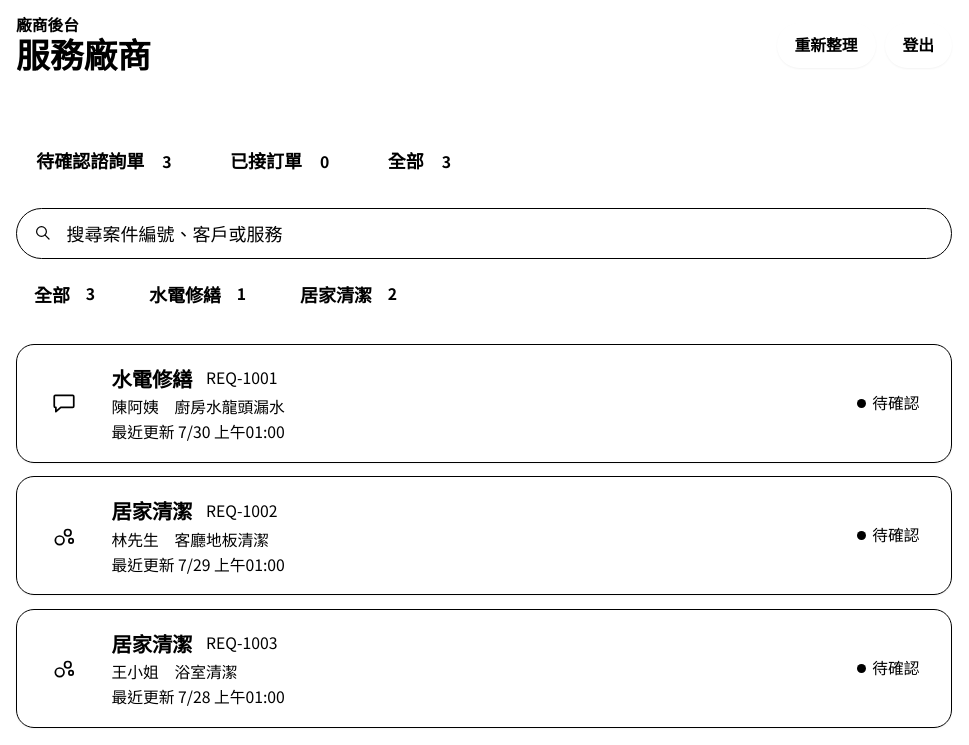
Test: VendorRequestsPage 分類與搜尋 › resets the category filter back to 全部 when switching status tabs to one without that category
Expected: the text "REQ-1001" is shown, [206,367,277,390]
Click the button "居家清潔 2": x=353, y=294 [282,272,424,316]
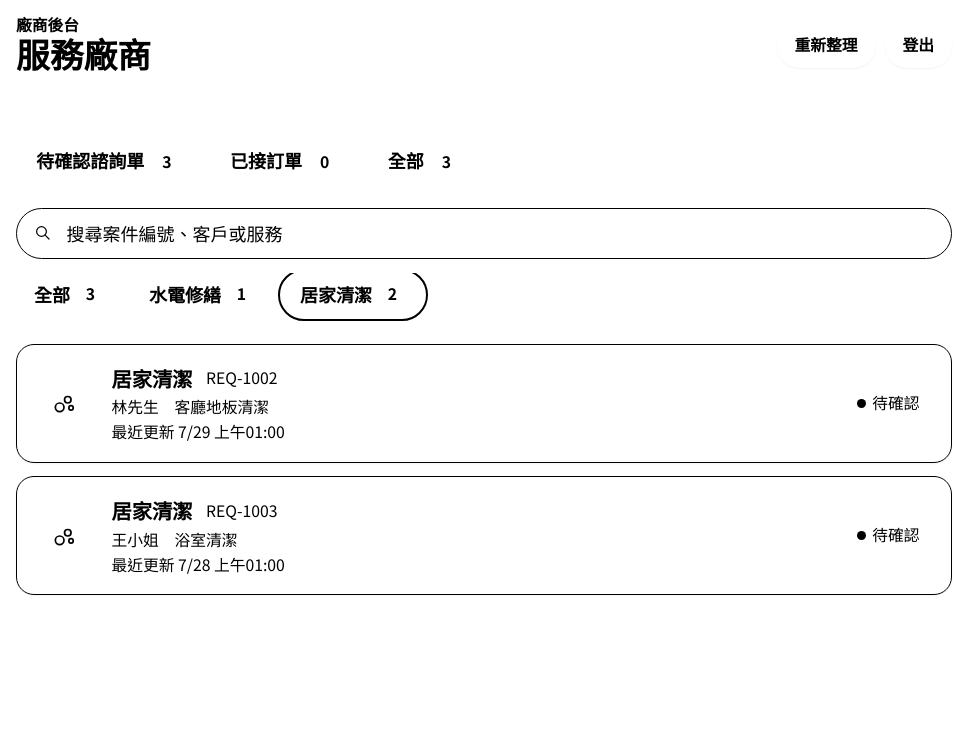
Expected: the button "居家清潔 2" is pressed, [282,272,424,316]
Click the button "已接訂單0": x=284, y=160 [210,136,359,185]
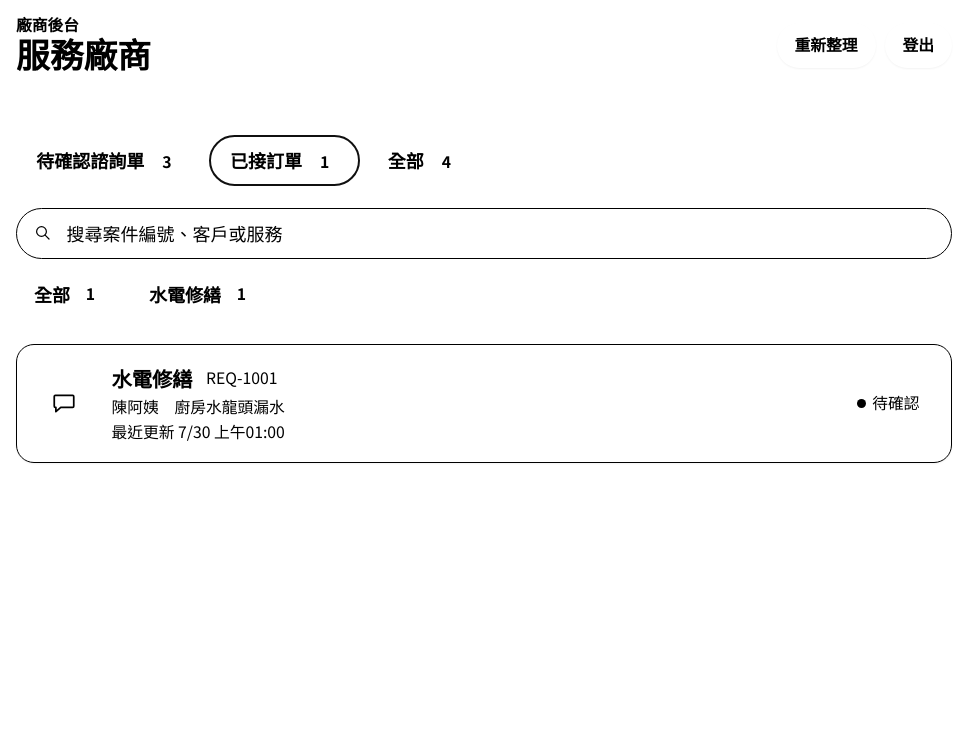
Expected: the button "居家清潔" is gone
